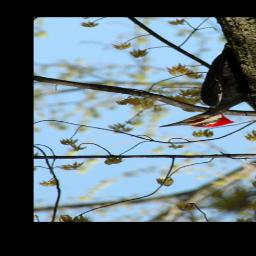Woodpecker: (153, 41, 256, 129)
